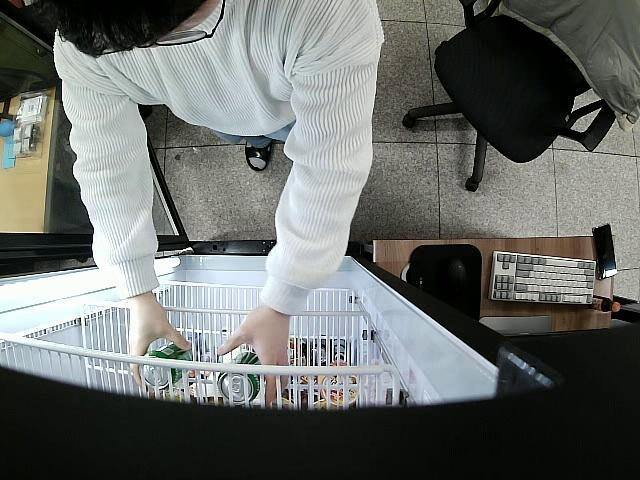12_chilsungCider: (139, 342, 192, 388), (217, 350, 262, 404)
